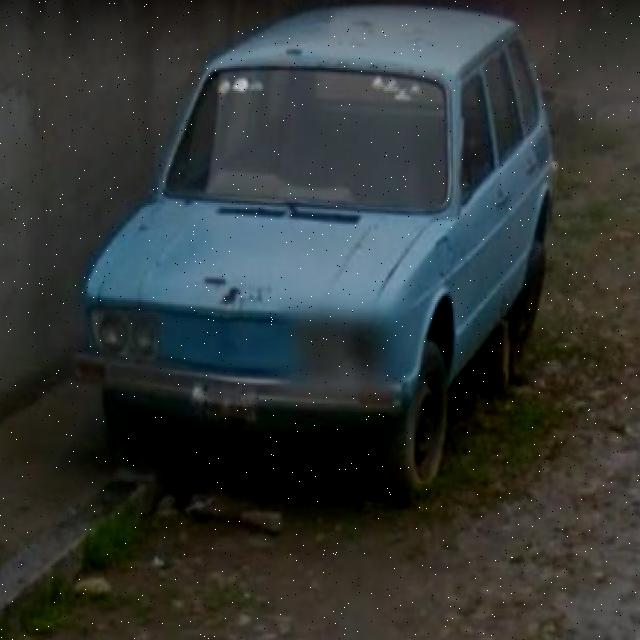car: (79, 10, 555, 482)
